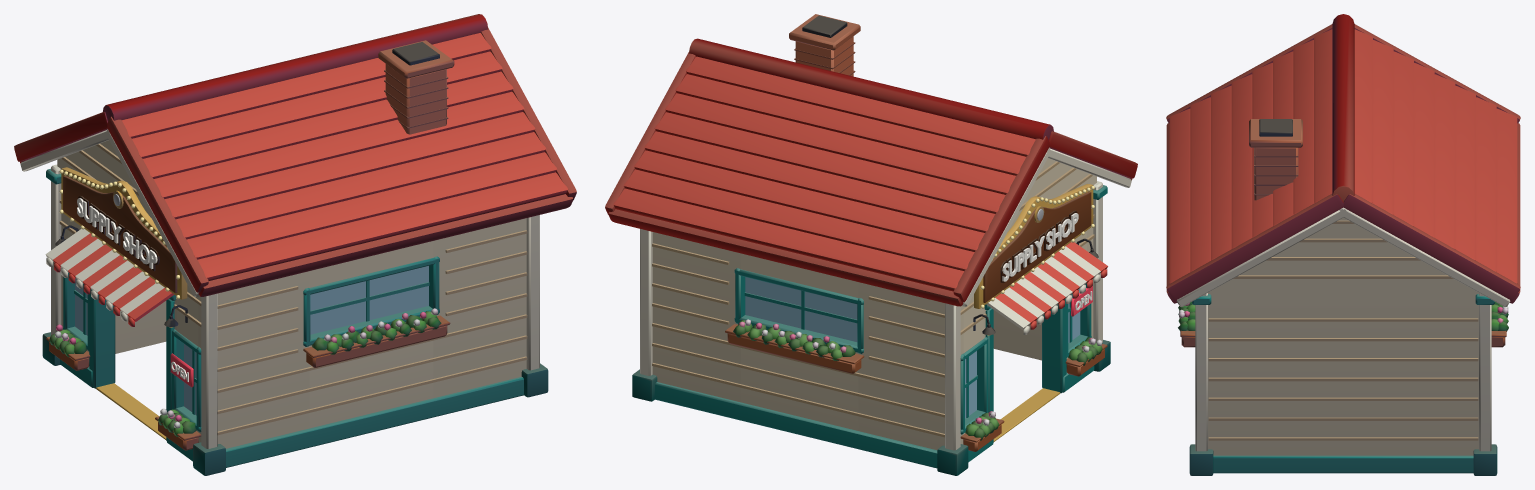
File: ShopV2.fbx
3 views of the same model, side by side, from view 1: azimuth 30°, elevation 25°; view 2: azimuth 150°, elevation 25°; view 3: azimuth 270°, elevation 25° (orthographic). The views are drawn at different scales.
Visible parts, largest first — view 1: SM_Bld_ShopV2_Roof, SM_Bld_ShopV2_Walls, SM_Bld_ShopV2_Trim, SM_Bld_ShopV2_Flowers, SM_Bld_ShopV2_Sign, SM_Bld_ShopV2_Awning, SM_Bld_ShopV2_Glass, SM_Bld_ShopV2_Glow; view 2: SM_Bld_ShopV2_Roof, SM_Bld_ShopV2_Walls, SM_Bld_ShopV2_Trim, SM_Bld_ShopV2_Flowers, SM_Bld_ShopV2_Sign, SM_Bld_ShopV2_Awning, SM_Bld_ShopV2_Glass, SM_Bld_ShopV2_Glow; view 3: SM_Bld_ShopV2_Roof, SM_Bld_ShopV2_Walls, SM_Bld_ShopV2_Trim, SM_Bld_ShopV2_Flowers.
Part boxes in pixels (x1,y1,x2,y2): SM_Bld_ShopV2_Roof: (14,14,576,296); SM_Bld_ShopV2_Walls: (57,140,527,448); SM_Bld_ShopV2_Trim: (20,129,548,475); SM_Bld_ShopV2_Flowers: (46,308,450,450); SM_Bld_ShopV2_Sign: (61,167,187,299); SM_Bld_ShopV2_Awning: (45,229,174,326); SM_Bld_ShopV2_Glass: (75,266,428,415); SM_Bld_ShopV2_Glow: (59,169,179,327); SM_Bld_ShopV2_Roof: (605,14,1137,306); SM_Bld_ShopV2_Walls: (652,158,1096,450); SM_Bld_ShopV2_Trim: (632,147,1131,475); SM_Bld_ShopV2_Flowers: (725,319,1107,451); SM_Bld_ShopV2_Sign: (974,184,1093,308); SM_Bld_ShopV2_Awning: (986,242,1107,334); SM_Bld_ShopV2_Glass: (745,277,1080,418); SM_Bld_ShopV2_Glow: (980,186,1094,335); SM_Bld_ShopV2_Roof: (1166,14,1520,303); SM_Bld_ShopV2_Walls: (1208,217,1478,455); SM_Bld_ShopV2_Trim: (1176,207,1510,475); SM_Bld_ShopV2_Flowers: (1178,302,1508,347).
Size of the model in its own units: 25.55 by 20.35 by 21.02.
